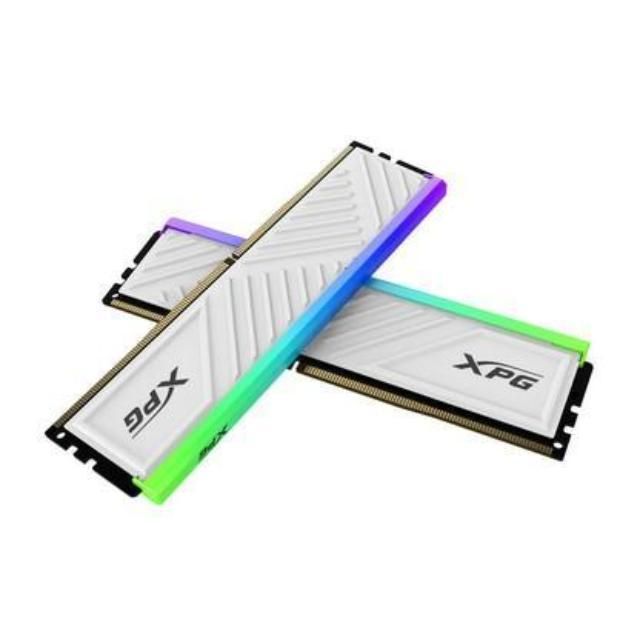RAM: (30, 136, 601, 510)
